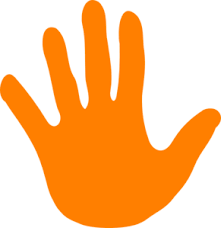palm: (44, 110, 167, 223)
